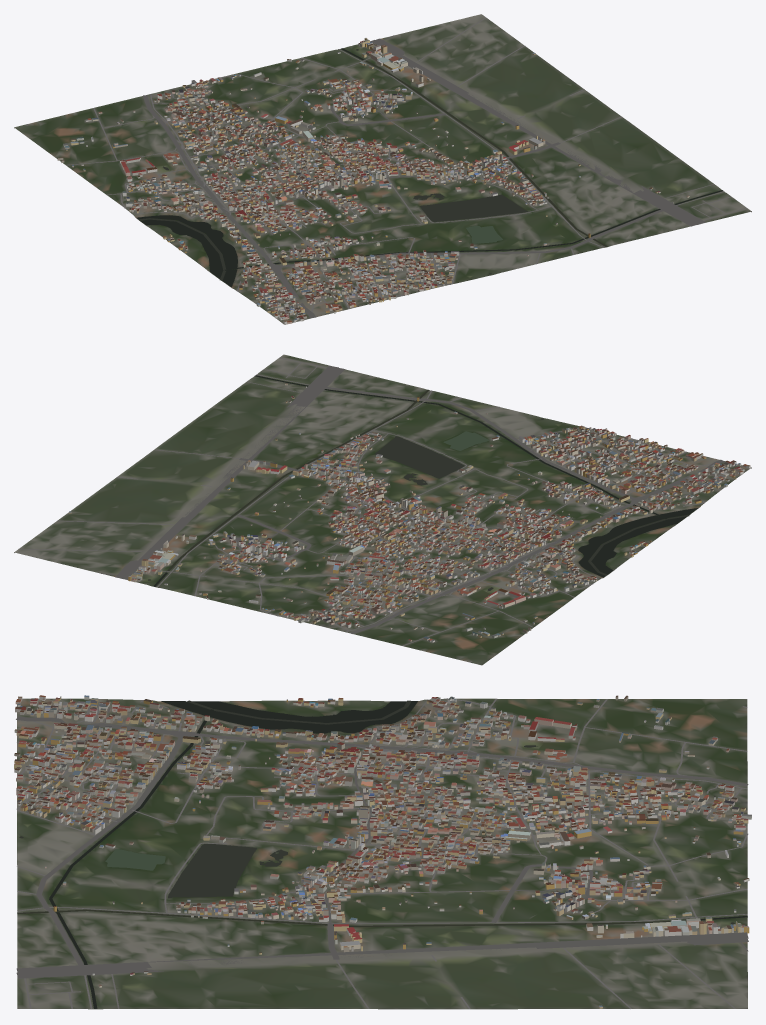
The picture shows the model from 3 angles, top to bottom: view 1: azimuth 30°, elevation 25°; view 2: azimuth 150°, elevation 25°; view 3: azimuth 270°, elevation 25°; orthographic projection. The views are drawn at different scales.
Visible parts, largest first — view 1: ground, buildings, roads, water; view 2: ground, buildings, roads, water; view 3: ground, buildings, roads, water.
Part boxes in pixels (left/top/right/bottom): ground: left=14, top=14, right=751, bottom=324; buildings: left=57, top=38, right=689, bottom=324; roads: left=26, top=17, right=746, bottom=318; water: left=136, top=48, right=723, bottom=286; ground: left=14, top=354, right=751, bottom=665; buildings: left=68, top=383, right=750, bottom=642; roads: left=19, top=358, right=727, bottom=662; water: left=148, top=375, right=697, bottom=591; ground: left=17, top=698, right=747, bottom=1009; buildings: left=14, top=695, right=751, bottom=1008; roads: left=16, top=698, right=748, bottom=1009; water: left=17, top=700, right=747, bottom=1008.
Bounding box in the file's own units: 1406 × 33.32 × 1416.
